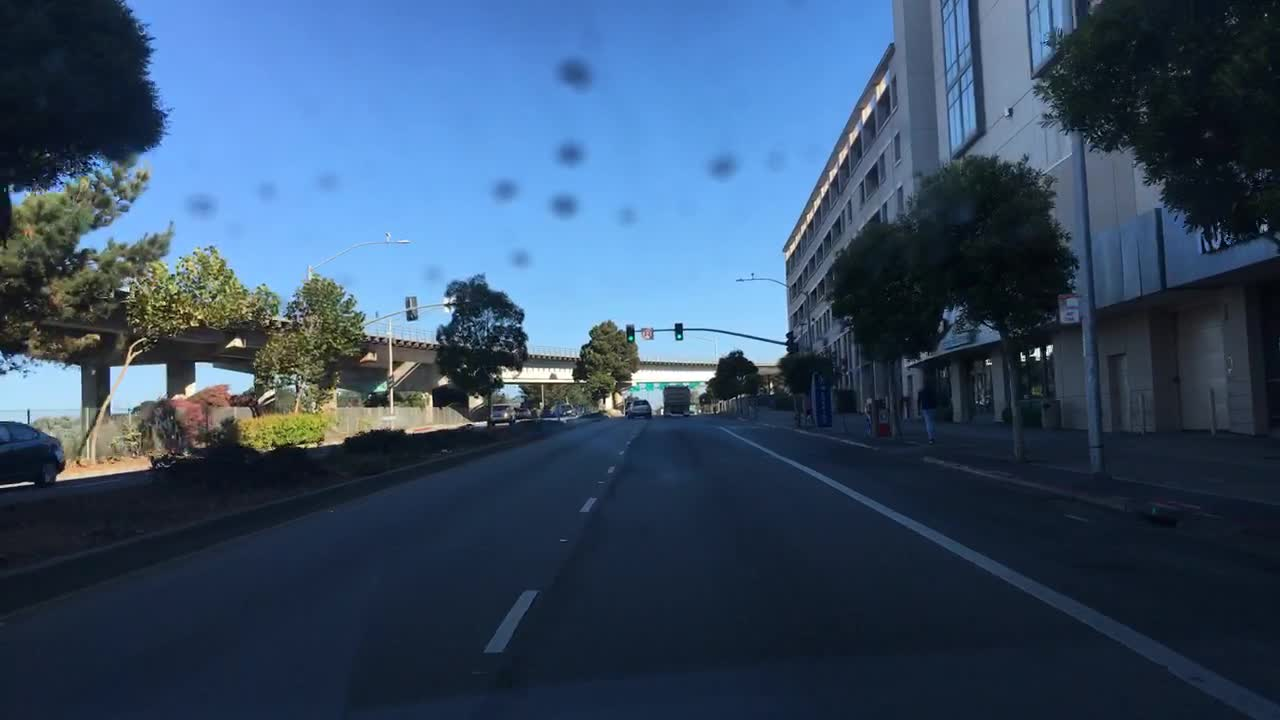car: (1, 419, 64, 486), (622, 400, 651, 421), (491, 404, 515, 426), (541, 404, 556, 420), (516, 407, 531, 420), (531, 407, 542, 419)
person: (914, 377, 940, 446)
traffic light: (403, 297, 419, 322), (783, 328, 796, 353), (673, 322, 683, 342), (626, 323, 636, 343)
traffic sign: (1056, 293, 1081, 325), (641, 323, 655, 340), (630, 379, 640, 393), (646, 382, 655, 392)
truck: (661, 387, 692, 416)
